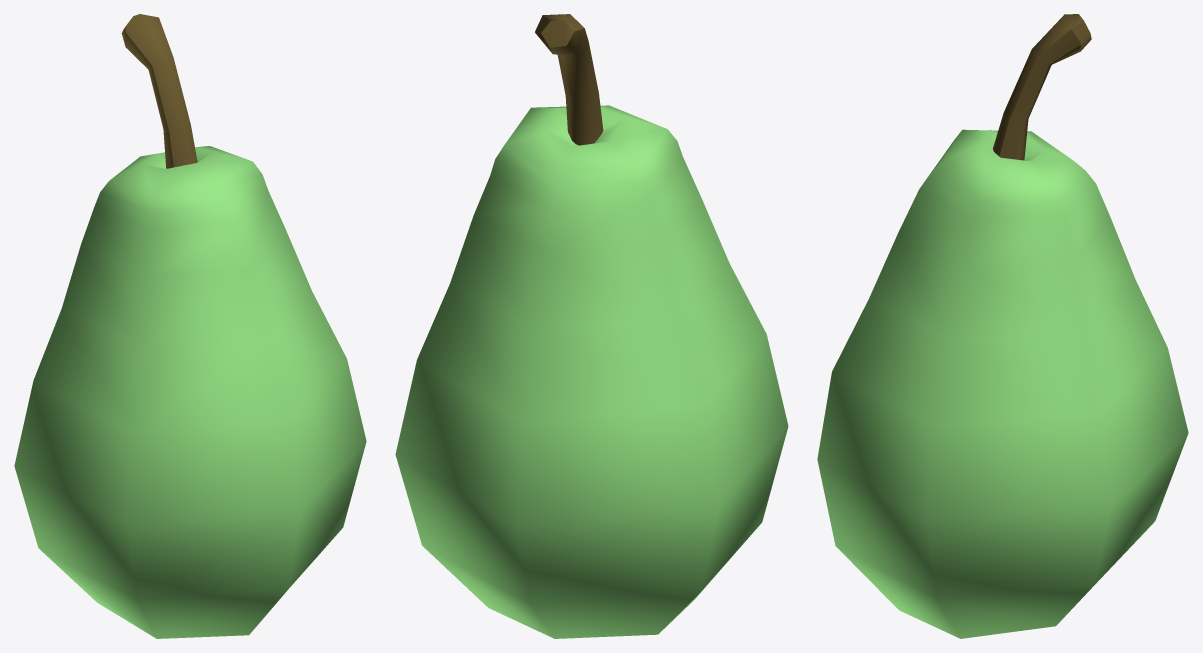
Rendered from SM_Pear_Green.fbx.
3 renders of one model, left to right at view 1: azimuth 30°, elevation 25°; view 2: azimuth 150°, elevation 25°; view 3: azimuth 270°, elevation 25°, orthographic. The views are drawn at different scales.
Visible parts, largest first — view 1: SM_Pear_Green; view 2: SM_Pear_Green; view 3: SM_Pear_Green.
Part boxes in pixels (x1,y1,x2,y2): SM_Pear_Green: [14, 14, 366, 638]; SM_Pear_Green: [395, 14, 788, 638]; SM_Pear_Green: [817, 14, 1188, 638].
Bounding box in the file's own units: 0.0649 × 0.1231 × 0.0697.
